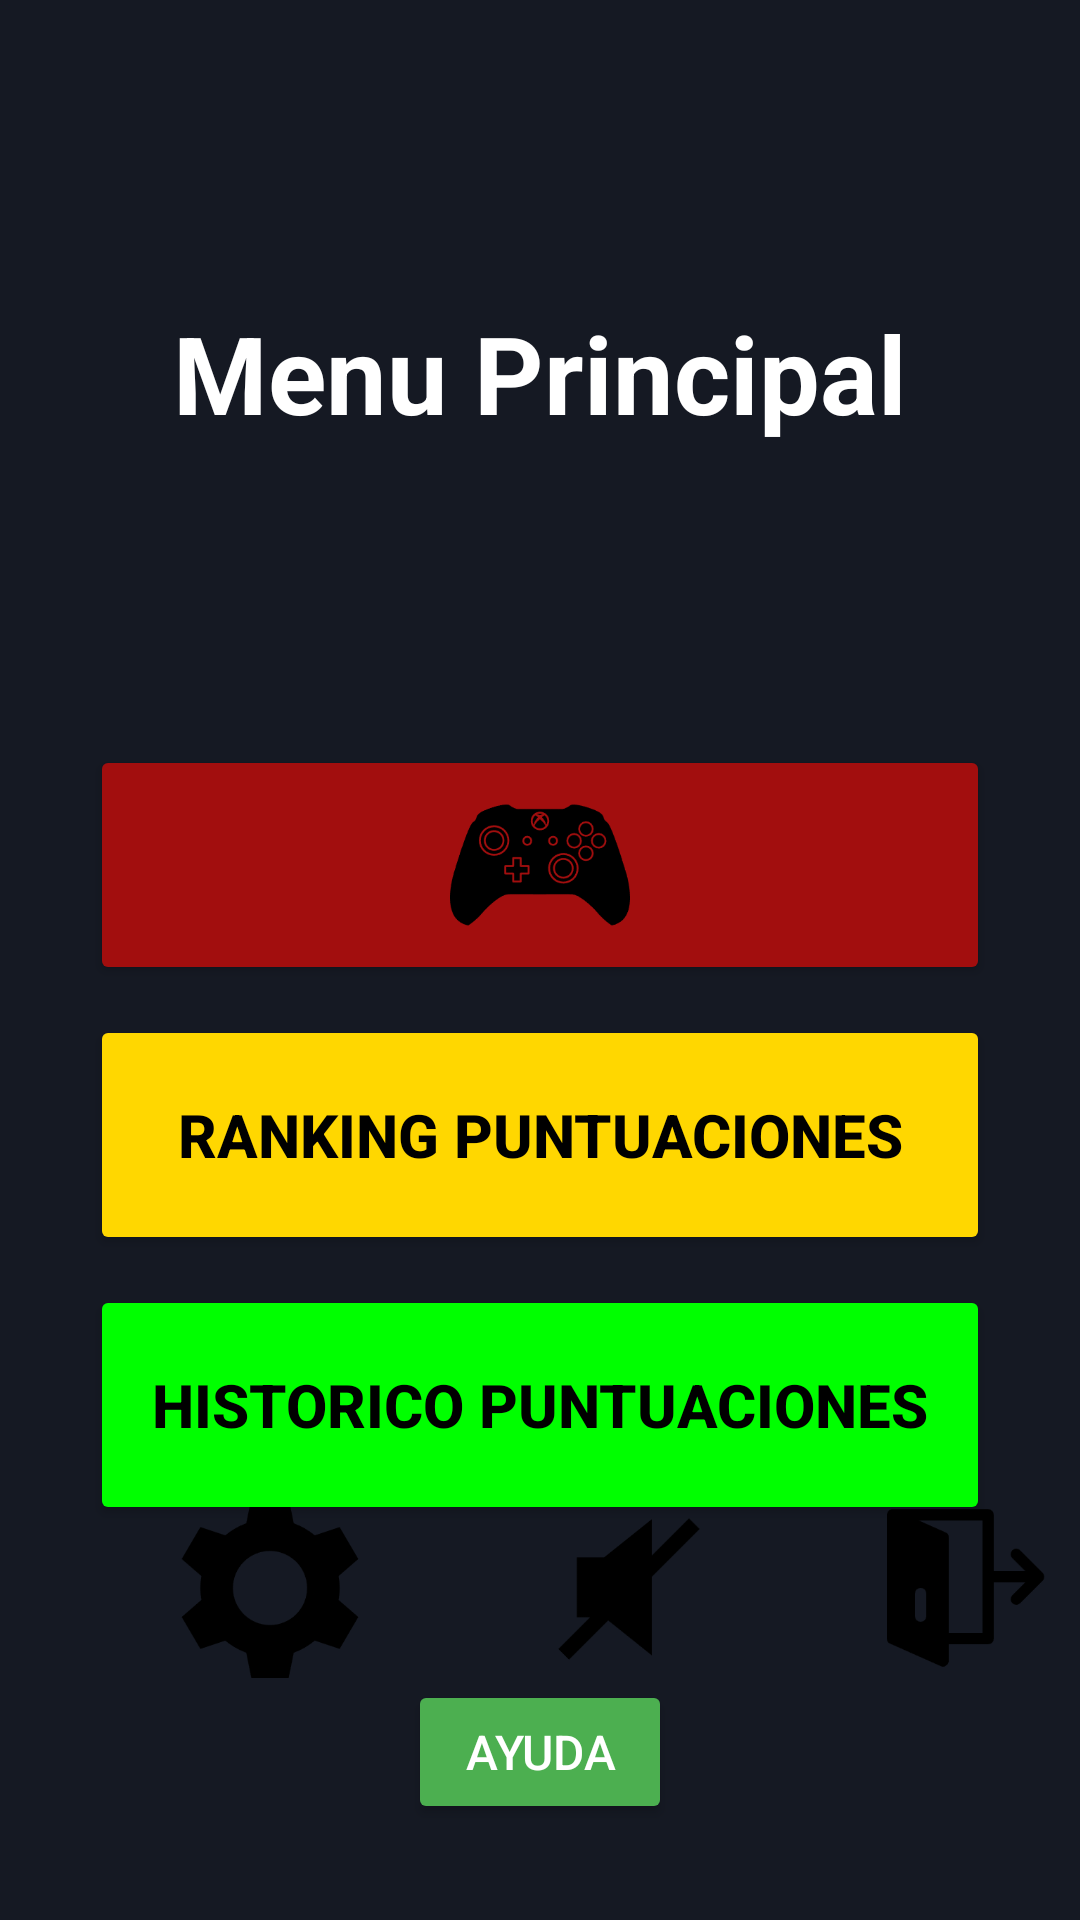

Icon click points for this 1080*1920 phone screenshot, format (x=x, y=y):
mute: (x=629, y=1589)
Salir: (x=965, y=1588)
settings: (x=270, y=1588)
